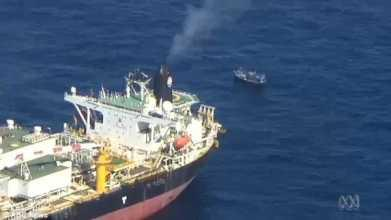Cargoship: (1, 60, 231, 215)
otherboat: (234, 62, 274, 85)
